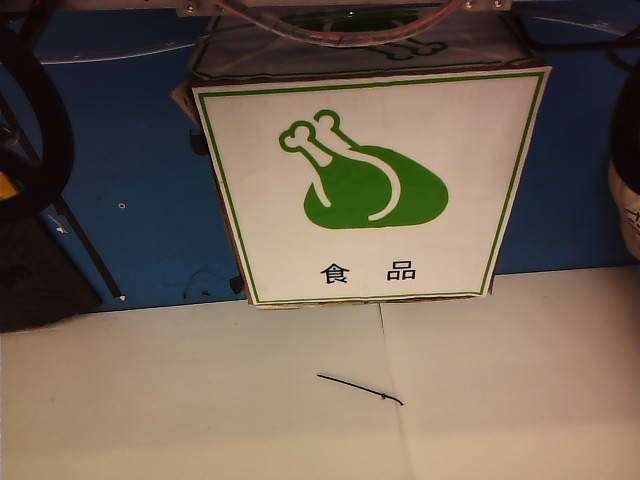Cube_food: (265, 97, 484, 294)
